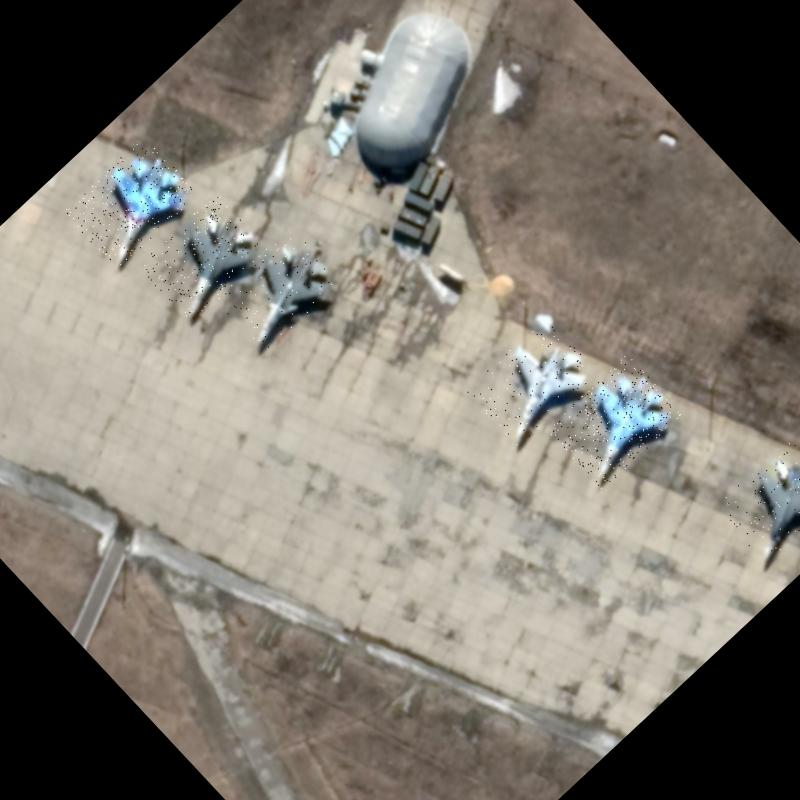A1: (546, 353, 684, 489), (63, 135, 199, 270), (136, 192, 268, 324), (466, 316, 598, 447), (713, 437, 800, 564)
A19: (215, 228, 344, 353)
